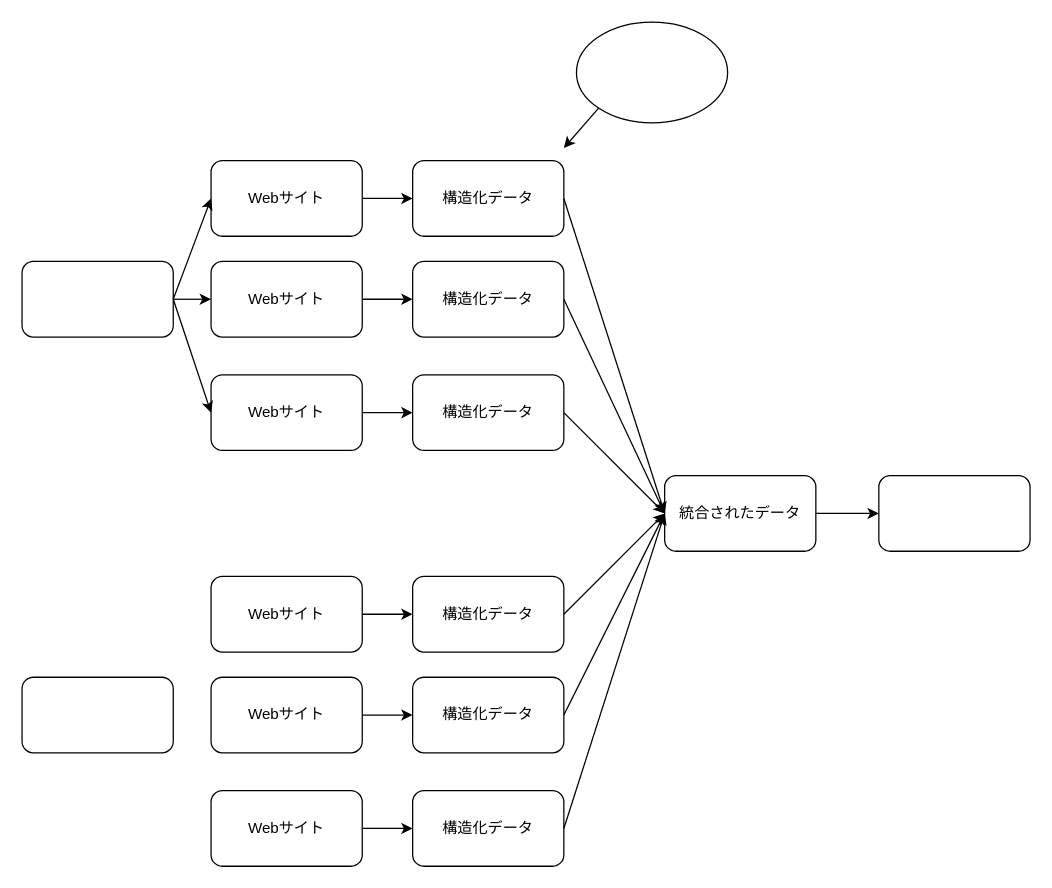
Image size: 1052x888. Some labels were removed from this diagram. The box of each missing label's shape, as (x1, y1, x2, y2) in pixels:
検索パターン1: (21, 260, 173, 337)
検索パターン2: (21, 676, 173, 753)
法人番号を付与: (575, 21, 728, 123)
重複排除した 整形済みのデータ: (878, 474, 1030, 551)
